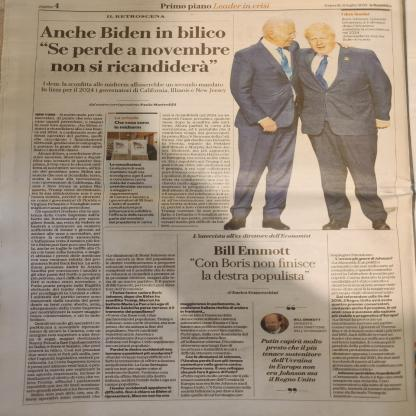immagine: (224, 12, 398, 230), (104, 130, 159, 162), (258, 311, 290, 336)
testo_col: (20, 106, 105, 404), (327, 251, 407, 403), (100, 250, 178, 405), (159, 108, 230, 232), (176, 300, 254, 403)
titolo: (34, 20, 232, 77), (181, 240, 319, 288)
